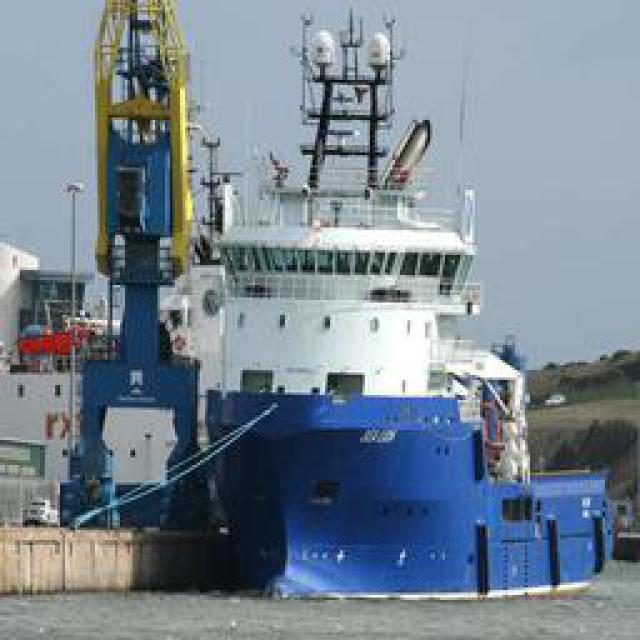Ship: (170, 76, 575, 571)
